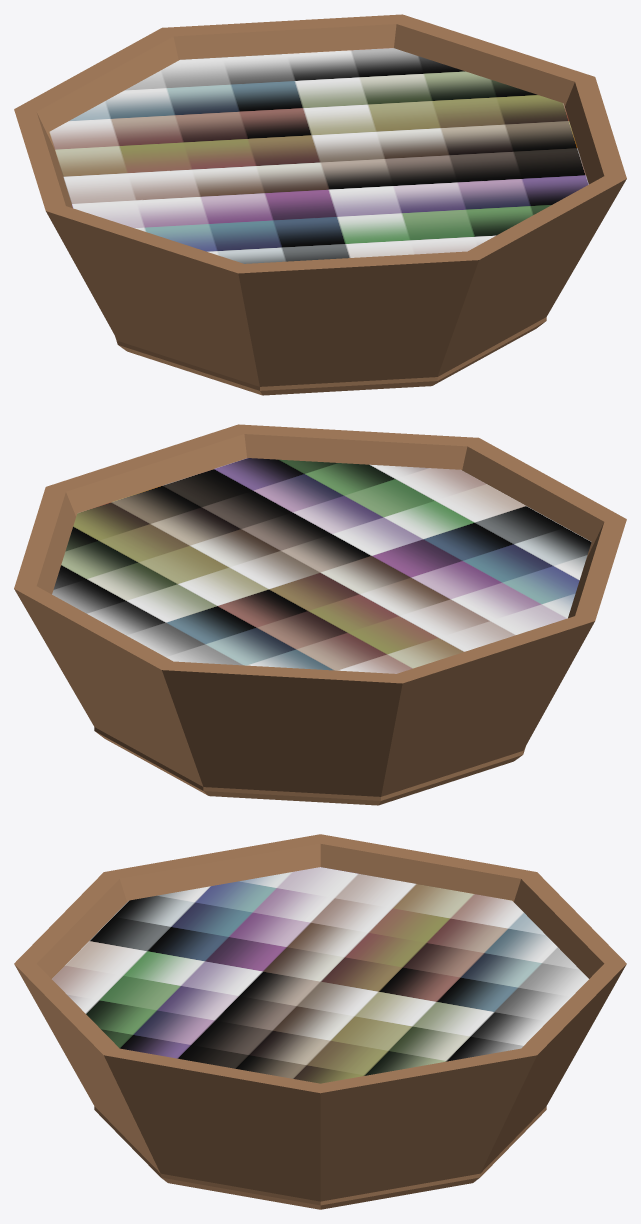
Rendered from plate3.fbx.
3 views of the same model, one above another, from view 1: azimuth 30°, elevation 25°; view 2: azimuth 150°, elevation 25°; view 3: azimuth 270°, elevation 25° (orthographic). The views are drawn at different scales.
Parts seen in each view (by area): view 1: plate3, Fill; view 2: plate3, Fill; view 3: plate3, Fill.
Part boxes in pixels (x1,y1,x2,y2): plate3: [14, 14, 626, 395]; Fill: [49, 48, 588, 263]; plate3: [14, 424, 626, 805]; Fill: [52, 458, 591, 673]; plate3: [14, 834, 626, 1209]; Fill: [52, 867, 588, 1083].
Bounding box in the file's own units: 19.99 × 5.58 × 19.99.
